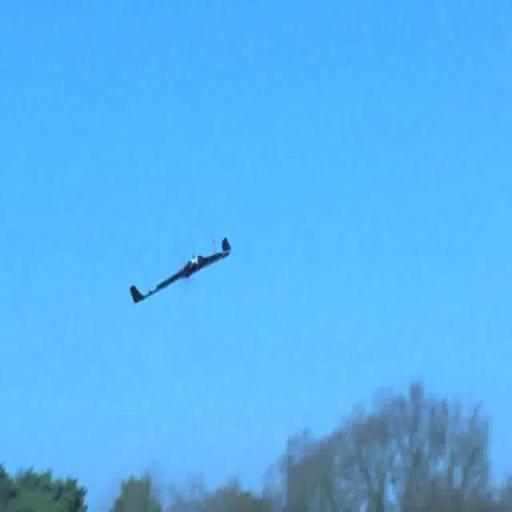uav: (127, 234, 238, 312)
